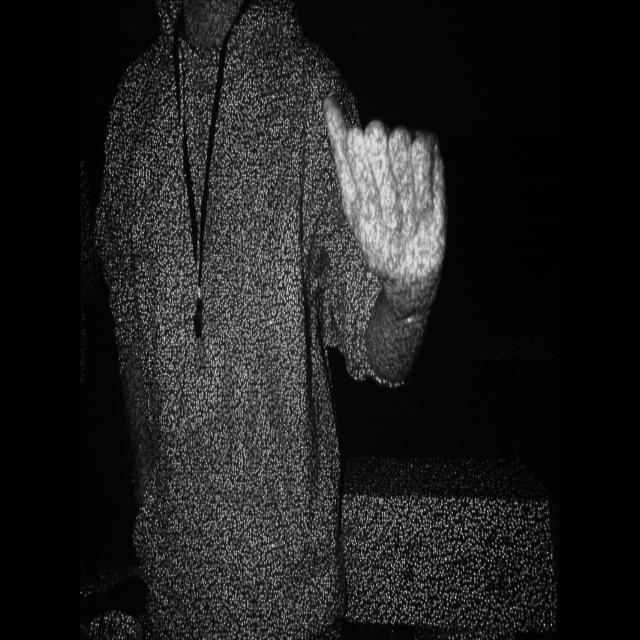A: (318, 89, 459, 299)
